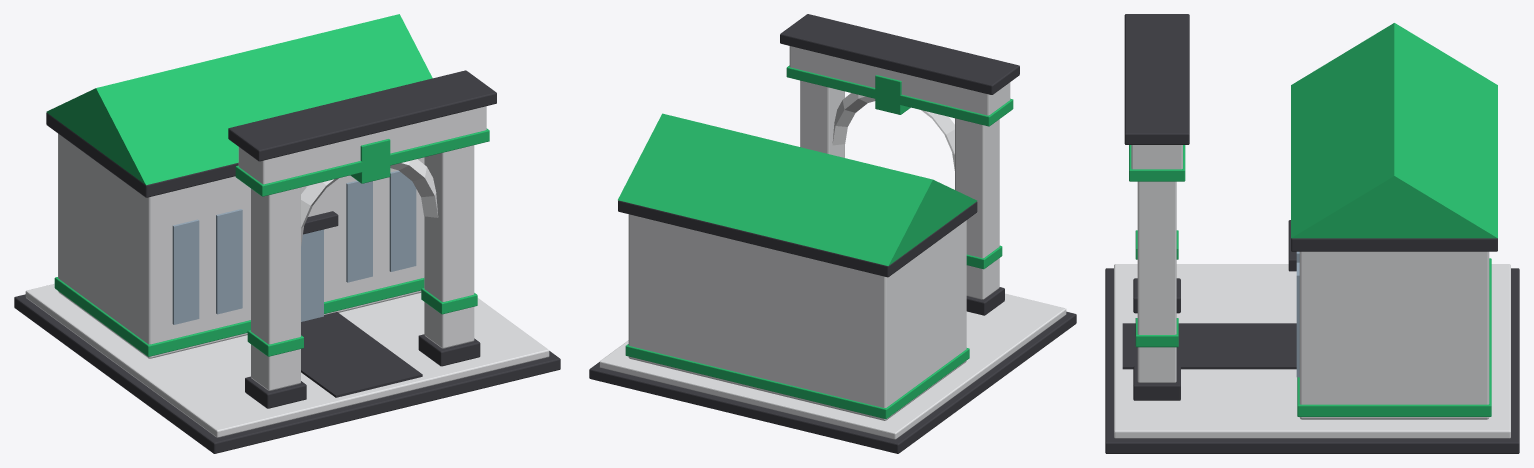
Rendered from arch.glb.
3 renders of one model, left to right at view 1: azimuth 30°, elevation 25°; view 2: azimuth 150°, elevation 25°; view 3: azimuth 270°, elevation 25°, orthographic. The views are drawn at different scales.
Visible parts, largest first — view 1: arch; view 2: arch; view 3: arch.
Part boxes in pixels (x1,y1,x2,y2): arch: [14, 14, 560, 453]; arch: [589, 14, 1076, 453]; arch: [1105, 14, 1519, 453].
Size of the model in its own units: 9.6 by 7.5 by 9.6.
